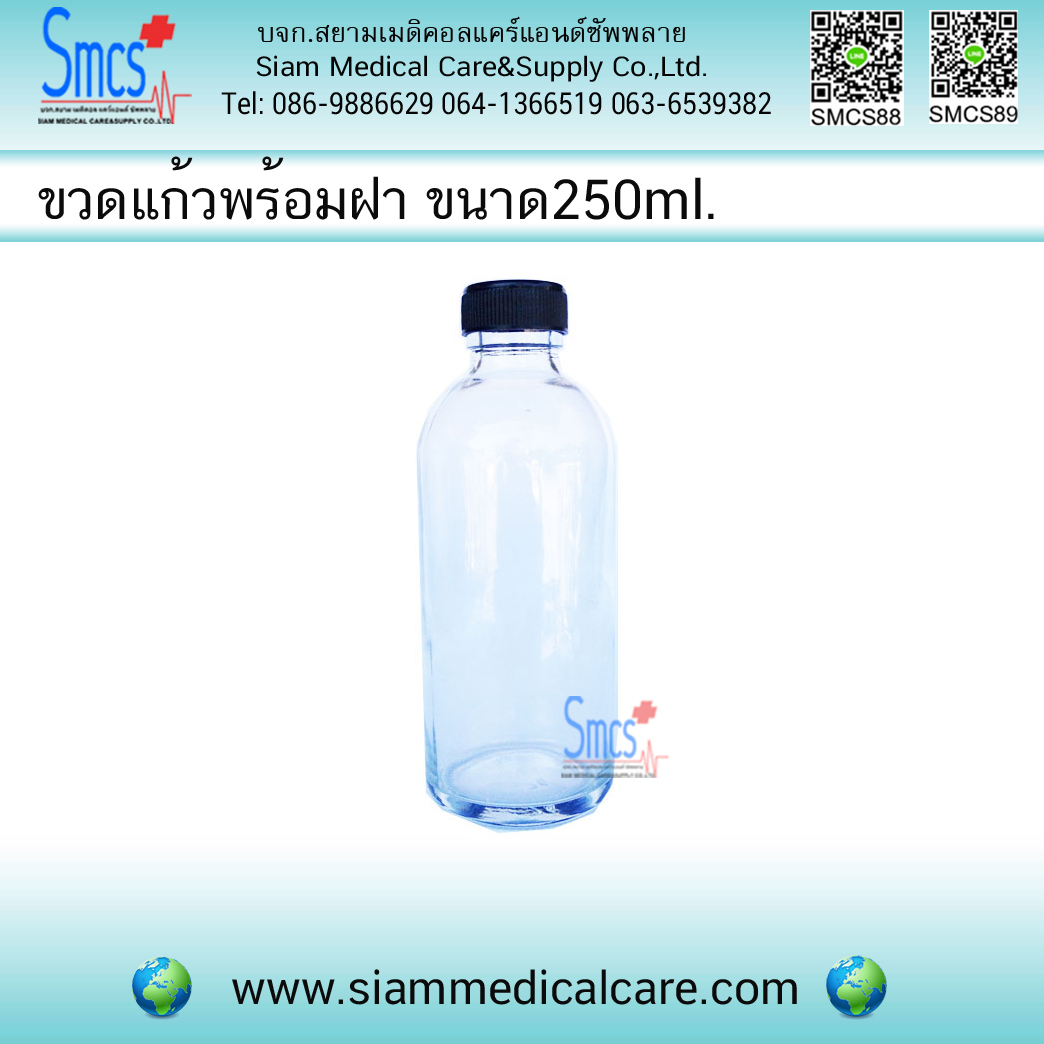glass_bottle: (402, 272, 637, 845)
